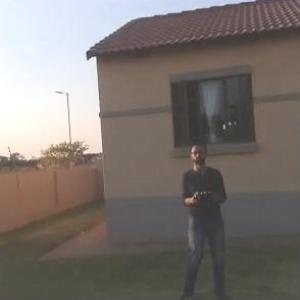follow: (163, 134, 231, 299)
